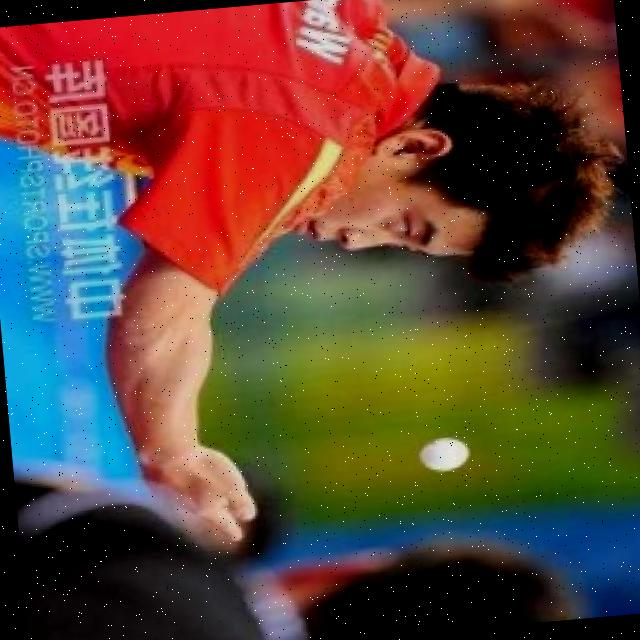ping-pong-ball: (416, 434, 475, 473)
